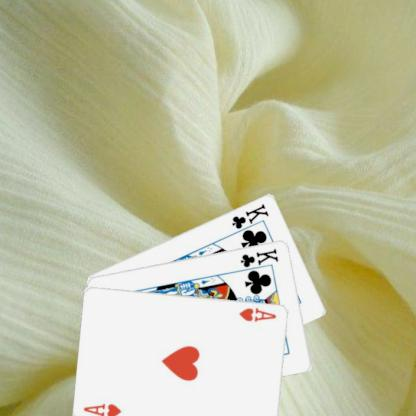AH: (237, 305, 278, 323), (81, 400, 123, 416)
KC: (229, 201, 270, 236), (236, 246, 280, 273)
